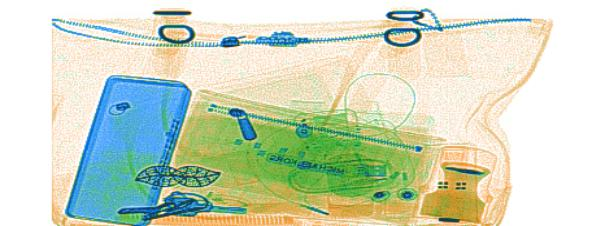seal: (417, 161, 488, 220)
